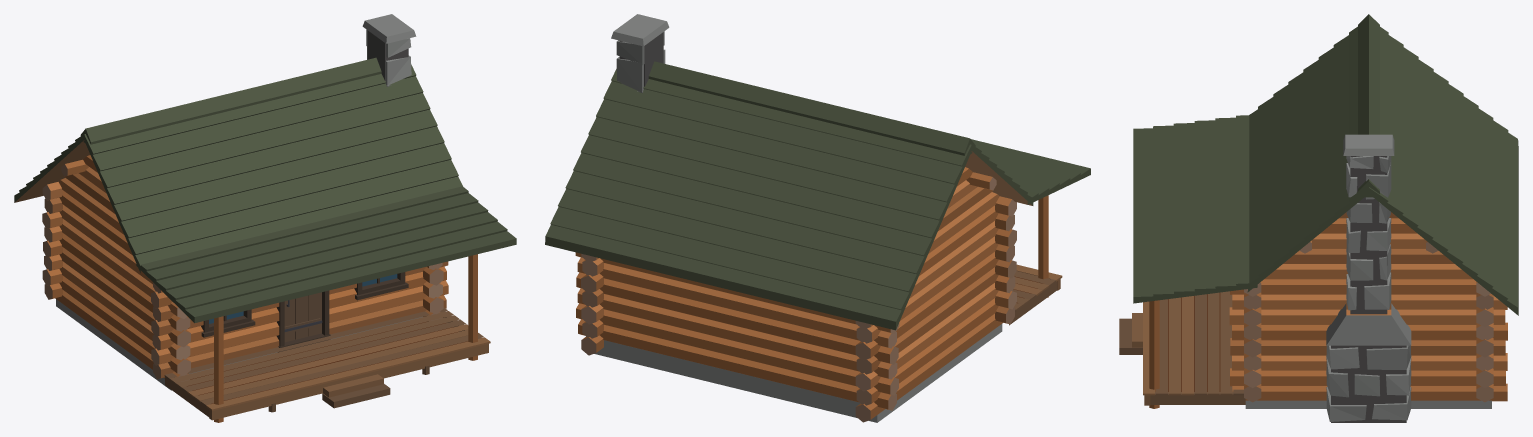
The model's file is porch-log-cabin-d2f3ef.glb.
3 views of the same model, side by side, from view 1: azimuth 30°, elevation 25°; view 2: azimuth 150°, elevation 25°; view 3: azimuth 270°, elevation 25° (orthographic). The views are drawn at different scales.
Visible parts, largest first — view 1: object 1, door; view 2: object 1; view 3: object 1.
Boxes of the visible parts, x1,y1,x2,y2 form: object 1: (14,14,516,422); door: (284,292,322,342); object 1: (545,14,1090,422); object 1: (1119,14,1518,422).
Bounding box in the file's own units: 8 × 6.05 × 8.
